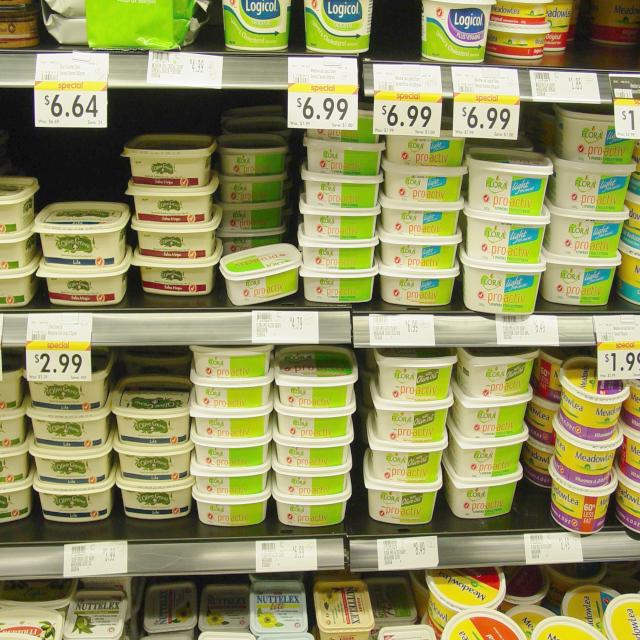empty_space: (42, 129, 118, 203), (568, 1, 634, 63), (377, 0, 423, 64), (120, 350, 182, 386)
